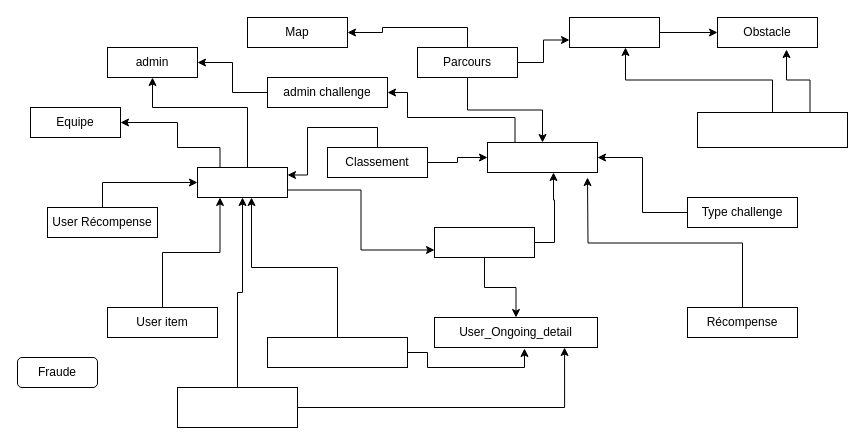
Some shapes in this 865 by 445 pixel diagram are drawn without their labels. The shapes that lost their labels are listed below. From the top down, each one's centre as x and y in pixels, then its label:
At point 614,32: "Segment".
At point 772,130: "Mode de déplacement".
At point 542,157: "Challenge".
At point 242,182: "User".
At point 484,242: "User_Ongoing".
At point 337,352: "Déplacement".
At point 237,407: "User statistique".
